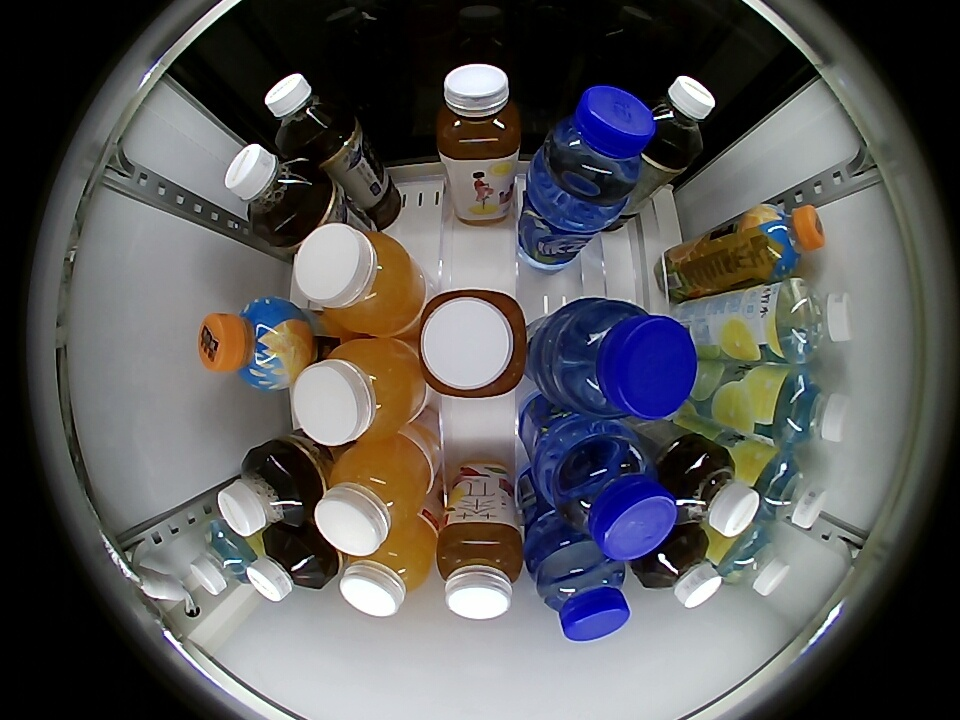chapai: (418, 288, 527, 400), (436, 518, 524, 620), (436, 64, 521, 166)
guolicheng: (199, 296, 311, 392), (744, 203, 825, 280)
maidong: (551, 299, 698, 421), (548, 436, 677, 560), (541, 85, 655, 206), (532, 537, 632, 643)
qinningshui: (770, 278, 856, 362), (765, 367, 851, 447), (749, 451, 826, 529), (716, 525, 790, 596), (189, 521, 258, 594)
weic: (294, 223, 425, 337), (294, 338, 427, 445), (315, 437, 435, 555), (339, 517, 437, 617)
wulongcha: (667, 446, 760, 537), (225, 143, 316, 236), (217, 447, 311, 537), (637, 75, 715, 164), (265, 73, 348, 155), (640, 530, 723, 609), (247, 530, 327, 601)
